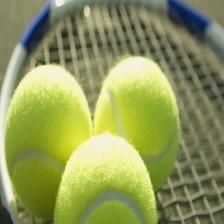Sports-Ball: (1, 60, 103, 212), (84, 52, 184, 189), (61, 132, 158, 224)
